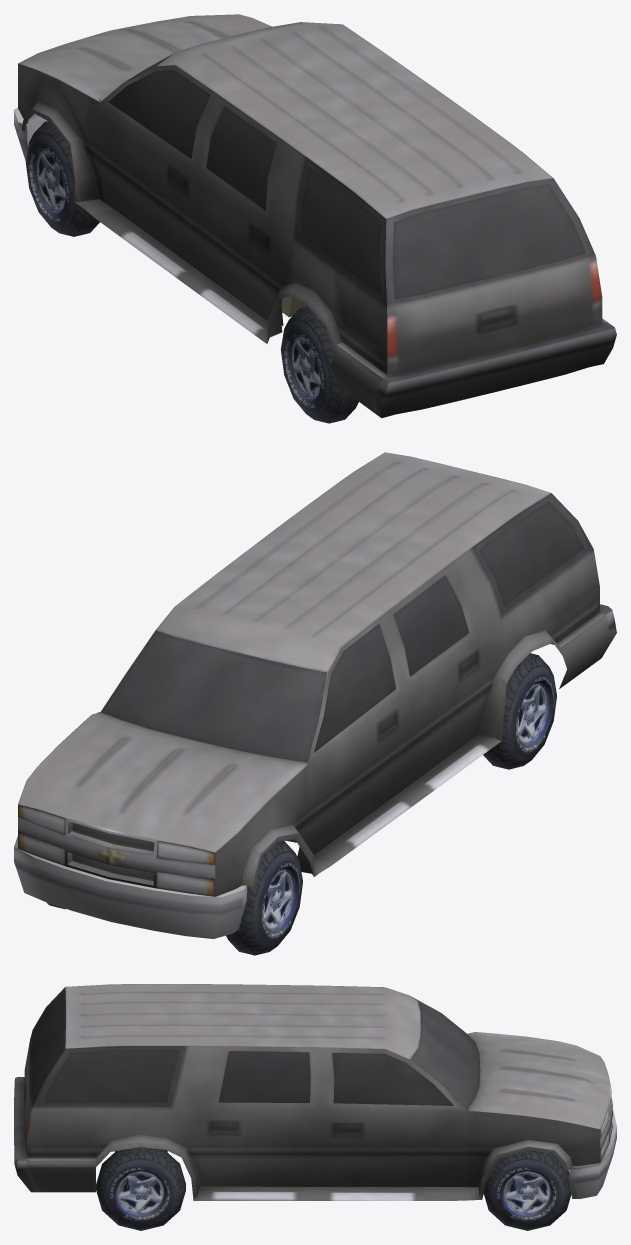
File: suburban.DAE
3 views of the same model, one above another, from view 1: azimuth 30°, elevation 25°; view 2: azimuth 150°, elevation 25°; view 3: azimuth 270°, elevation 25° (orthographic). The views are drawn at different scales.
Visible parts, largest first — view 1: hull, a_left_win, wheels_spin, wheels_spin_steer001; view 2: hull, a_front, a_left_win, wheels_spin_steer001, wheels_spin; view 3: hull, a_right_win, wheels_spin, wheels_spin_steer002, a_front.
Boxes of the visible parts, x1,y1,x2,y2 form: hull: (14,14,616,418); a_left_win: (108,70,275,210); wheels_spin: (280,306,358,423); wheels_spin_steer001: (25,121,99,236); hull: (14,452,616,938); a_front: (101,631,327,762); a_left_win: (313,575,469,752); wheels_spin_steer001: (226,841,302,955); wheels_spin: (483,653,556,769); hull: (14,984,616,1200); a_right_win: (218,1051,453,1105); wheels_spin: (96,1147,185,1230); wheels_spin_steer002: (483,1150,571,1230); a_front: (410,996,480,1109).
Size of the model in its own units: 1.97 by 1.87 by 5.64.
Materials: 3 (3 with a texture image).
